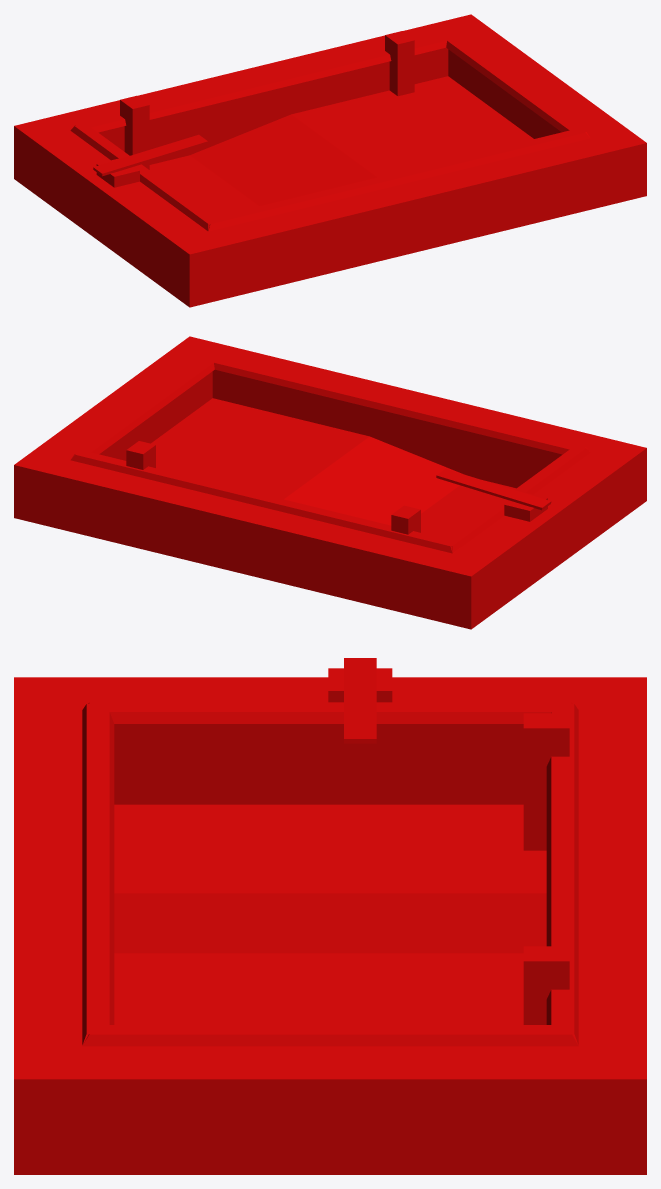
Rendered from SM_Bld_Pool_01_Collision.fbx.
The picture shows the model from 3 angles, top to bottom: view 1: azimuth 30°, elevation 25°; view 2: azimuth 150°, elevation 25°; view 3: azimuth 270°, elevation 25°; orthographic projection. The views are drawn at different scales.
Visible parts, largest first — view 1: SM_Bld_Pool_01_Collision; view 2: SM_Bld_Pool_01_Collision; view 3: SM_Bld_Pool_01_Collision.
Part boxes in pixels (<box>): SM_Bld_Pool_01_Collision: <box>14,14,646,307</box>; SM_Bld_Pool_01_Collision: <box>14,336,646,629</box>; SM_Bld_Pool_01_Collision: <box>14,658,646,1174</box>.
Bounding box in the file's own units: 1502 × 233 × 1000.
